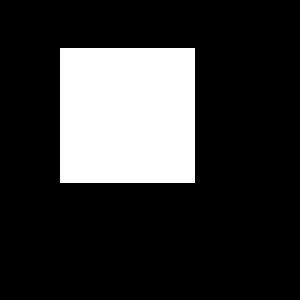circle: (60, 48, 195, 183)
